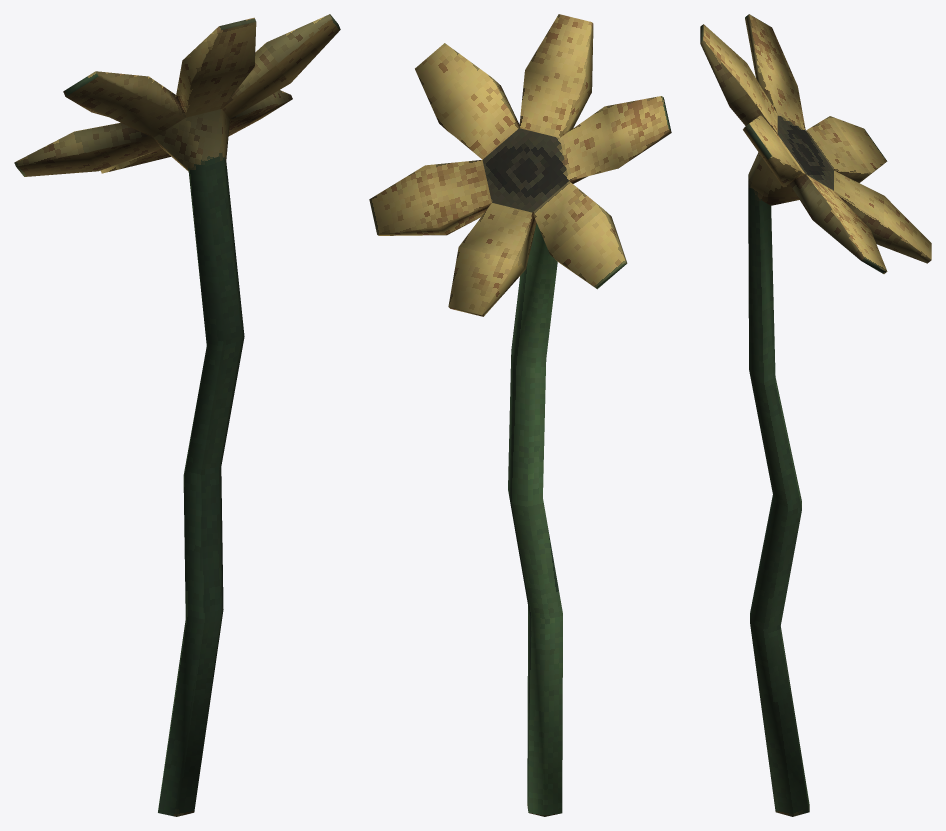
The model's file is flowey.glb.
3 renders of one model, left to right at view 1: azimuth 30°, elevation 25°; view 2: azimuth 150°, elevation 25°; view 3: azimuth 270°, elevation 25°, orthographic. The views are drawn at different scales.
Visible parts, largest first — view 1: Cube; view 2: Cube; view 3: Cube.
Boxes of the visible parts, x1,y1,x2,y2 form: Cube: (14,14,340,816); Cube: (369,14,671,816); Cube: (700,14,931,816).
Size of the model in its own units: 0.8095 by 2.28 by 0.6124.
1 material, 1 textured.
